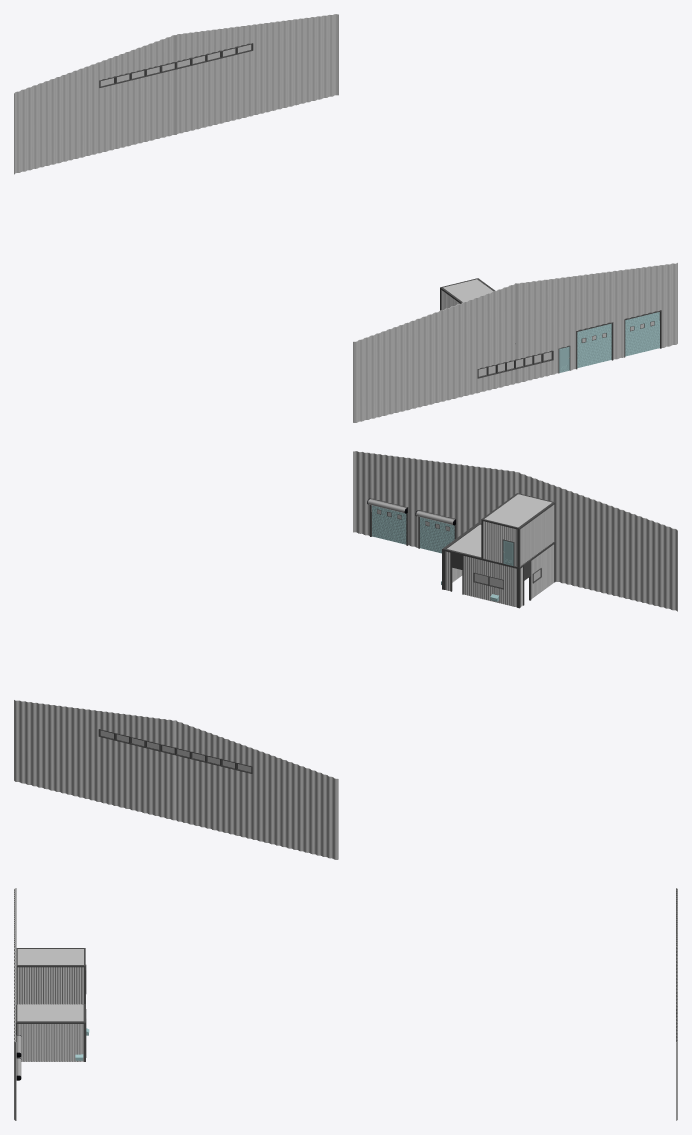
File: yaaaaalfintermine.fbx
The picture shows the model from 3 angles, top to bottom: view 1: azimuth 30°, elevation 25°; view 2: azimuth 150°, elevation 25°; view 3: azimuth 270°, elevation 25°; orthographic projection. The views are drawn at different scales.
Visible parts, largest first — view 1: 02. dinding depan, officina neglected, 05. gerbang001; view 2: 02. dinding depan, officina neglected, 05. gerbang001; view 3: 02. dinding depan, officina neglected, 05. gerbang001.
Part boxes in pixels (x1=…): 02. dinding depan: x1=14, y1=14, x2=495, y2=310; officina neglected: x1=353, y1=262, x2=677, y2=422; 05. gerbang001: x1=99, y1=43, x2=661, y2=378; 02. dinding depan: x1=14, y1=493, x2=555, y2=859; officina neglected: x1=353, y1=451, x2=677, y2=611; 05. gerbang001: x1=98, y1=498, x2=514, y2=773; 02. dinding depan: x1=16, y1=888, x2=677, y2=1120; officina neglected: x1=14, y1=888, x2=85, y2=1120; 05. gerbang001: x1=16, y1=936, x2=676, y2=1080.
Bounding box in the file's own units: 17.1 × 5.05 × 31.11.
